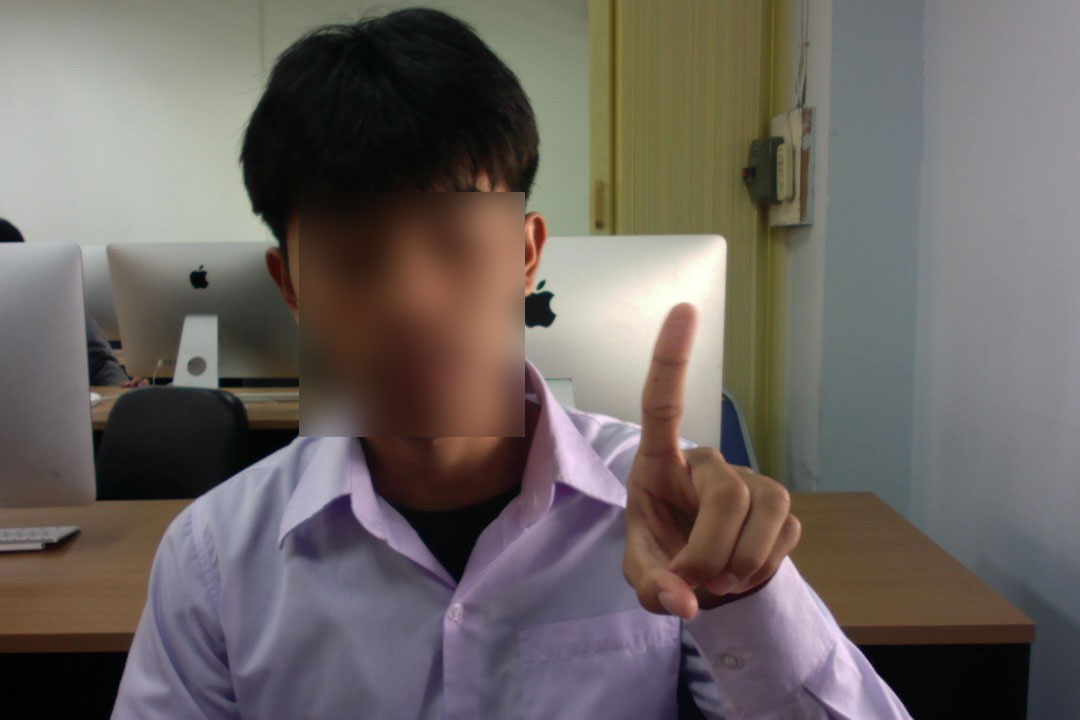dor: (606, 295, 807, 631)
